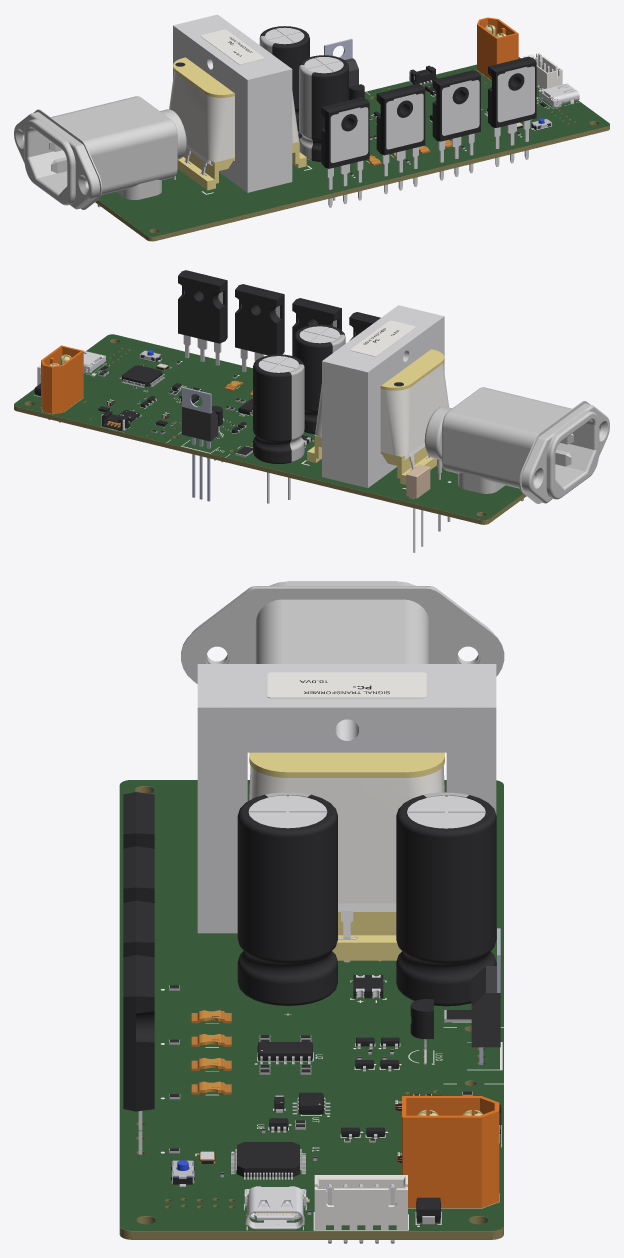
File: E-Load.glb
3 renders of one model, top to bottom at view 1: azimuth 30°, elevation 25°; view 2: azimuth 150°, elevation 25°; view 3: azimuth 270°, elevation 25°, orthographic. The views are drawn at different scales.
Parts seen in each view (by area): view 1: T1, =>[0:1:1:47], J4, C17, NAUO1.005, NAUO1.002, NAUO1.003, NAUO1.004, =>[0:1:1:49], C18, NAUO1.009, J3 (+4 smaller); view 2: T1, =>[0:1:1:47], J4, C18, NAUO1.003, NAUO1.002, =>[0:1:1:49], C17, NAUO1.009, NAUO1.005, =>[0:1:1:3], Z1 (+7 smaller); view 3: =>[0:1:1:47], T1, J4, C17, C18, NAUO1.009, NAUO1.003, J3, =>[0:1:1:49], U1, J6, =>[0:1:1:3] (+6 smaller).
Part boxes in pixels (left/top/right/bottom): T1: left=169, top=14, right=306, bottom=192; =>[0:1:1:47]: left=98, top=57, right=609, bottom=236; J4: left=14, top=96, right=177, bottom=209; C17: left=299, top=55, right=348, bottom=200; NAUO1.005: left=376, top=83, right=425, bottom=194; NAUO1.002: left=432, top=70, right=480, bottom=180; NAUO1.003: left=488, top=56, right=536, bottom=166; NAUO1.004: left=321, top=97, right=369, bottom=207; =>[0:1:1:49]: left=95, top=82, right=609, bottom=241; C18: left=259, top=26, right=309, bottom=130; NAUO1.009: left=477, top=17, right=518, bottom=80; J3: left=523, top=53, right=562, bottom=89; T1: left=307, top=305, right=448, bottom=487; =>[0:1:1:47]: left=14, top=334, right=523, bottom=520; J4: left=442, top=387, right=609, bottom=503; C18: left=253, top=354, right=304, bottom=503; NAUO1.003: left=178, top=270, right=227, bottom=365; NAUO1.002: left=235, top=284, right=284, bottom=372; =>[0:1:1:49]: left=14, top=339, right=526, bottom=524; C17: left=294, top=324, right=345, bottom=434; NAUO1.009: left=41, top=345, right=83, bottom=422; NAUO1.005: left=292, top=298, right=341, bottom=356; =>[0:1:1:3]: left=182, top=407, right=217, bottom=441; Z1: left=424, top=406, right=451, bottom=531; =>[0:1:1:47]: left=119, top=780, right=503, bottom=1230; T1: left=197, top=664, right=496, bottom=962; J4: left=181, top=581, right=504, bottom=683; C17: left=237, top=792, right=337, bottom=1005; C18: left=396, top=792, right=496, bottom=1006; NAUO1.009: left=402, top=1096, right=499, bottom=1208; NAUO1.003: left=123, top=955, right=154, bottom=1154; J3: left=314, top=1175, right=407, bottom=1243; =>[0:1:1:49]: left=119, top=786, right=503, bottom=1239; U1: left=231, top=1142, right=305, bottom=1179; J6: left=244, top=1186, right=306, bottom=1229; =>[0:1:1:3]: left=471, top=966, right=500, bottom=1047.
Size of the model in its own units: 0.1876 by 0.0596 by 0.0613.
